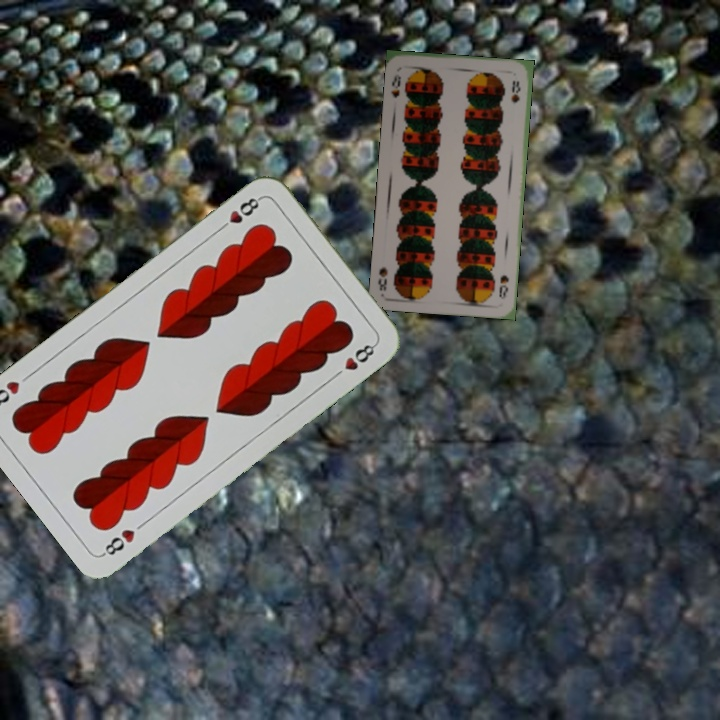H8: (214, 193, 265, 234), (99, 525, 138, 559)
S8: (387, 70, 403, 101), (495, 271, 511, 301)
